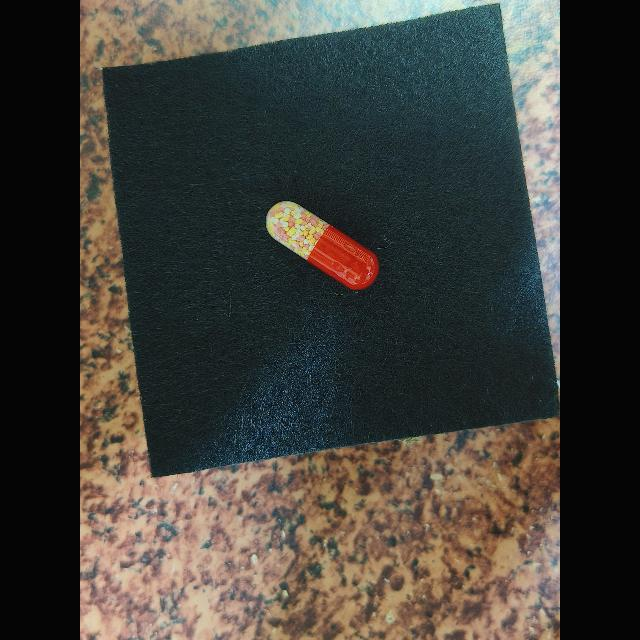Intact Capsule: (266, 201, 379, 290)
